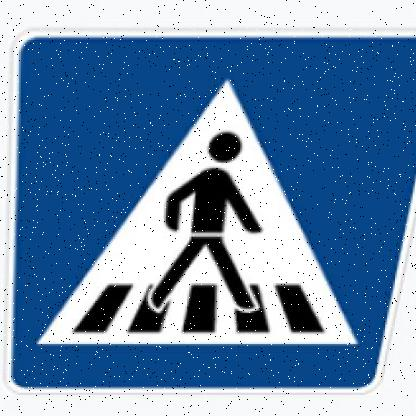Pedestrian Crossing: (2, 21, 416, 396)
